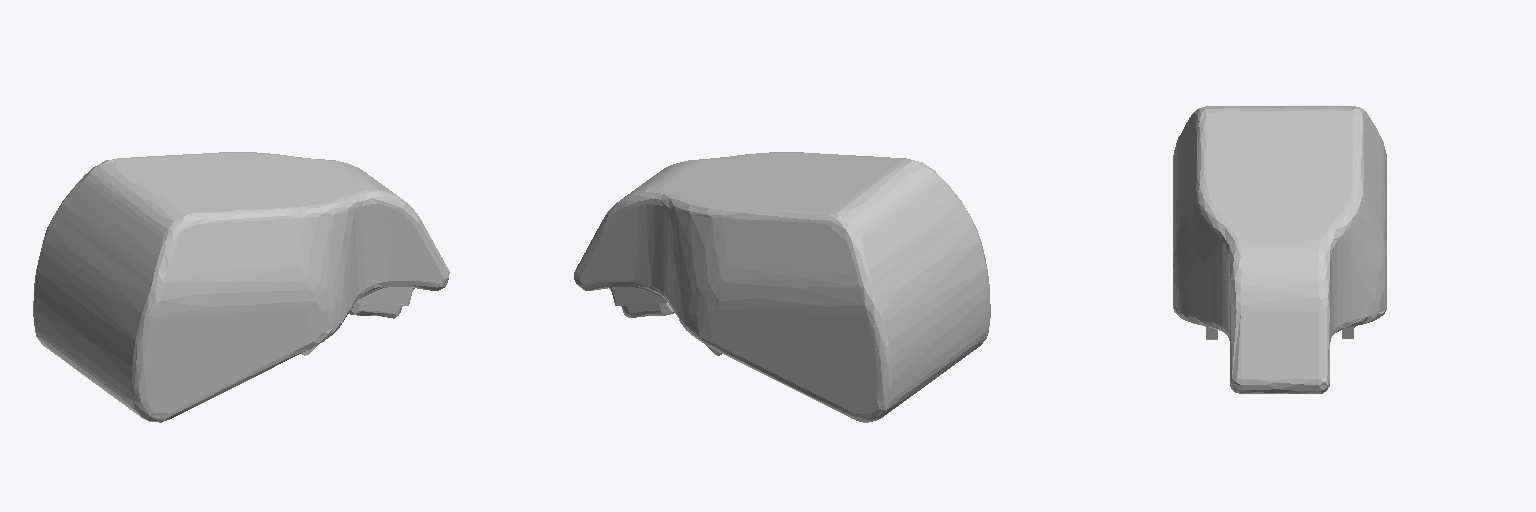
The model's file is l_finger.obj.
The picture shows the model from 3 angles: view 1: azimuth 30°, elevation 25°; view 2: azimuth 150°, elevation 25°; view 3: azimuth 270°, elevation 25°; orthographic projection.
Parts seen in each view (by area): view 1: finger_M2K_mod_finger_M2K_modShape; view 2: finger_M2K_mod_finger_M2K_modShape; view 3: finger_M2K_mod_finger_M2K_modShape.
Boxes of the visible parts, box(x1,y1,x2,y2) form: finger_M2K_mod_finger_M2K_modShape: box(33, 152, 449, 422); finger_M2K_mod_finger_M2K_modShape: box(574, 152, 990, 422); finger_M2K_mod_finger_M2K_modShape: box(1173, 106, 1386, 393).
Bounding box in the file's own units: 0.1046 × 0.0548 × 0.0562.